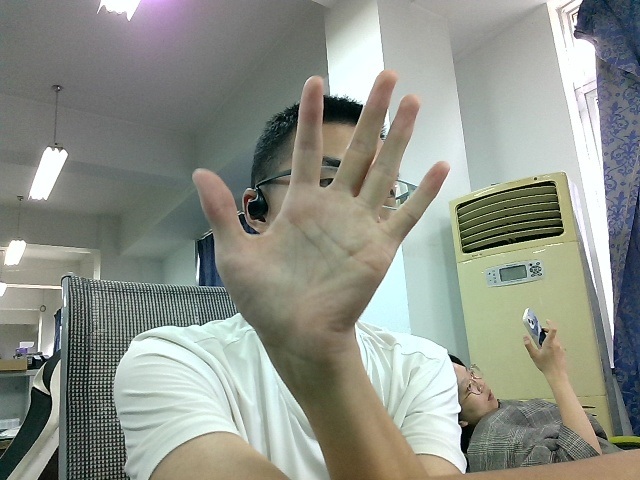paper: (184, 68, 449, 393)
